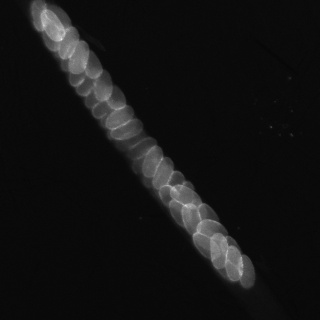embryo: (55, 26, 79, 60), (212, 254, 239, 283), (125, 136, 157, 160), (41, 9, 65, 41), (193, 233, 219, 261), (151, 157, 173, 190), (171, 185, 201, 209), (68, 40, 89, 74), (141, 146, 163, 178), (104, 106, 133, 130), (110, 119, 142, 140), (197, 220, 228, 241), (210, 233, 228, 269), (222, 236, 242, 267), (182, 203, 201, 235), (46, 4, 71, 28), (169, 200, 191, 227), (226, 246, 242, 282), (119, 130, 149, 149), (238, 254, 254, 289), (30, 0, 47, 31), (94, 71, 112, 100), (85, 51, 102, 78), (160, 185, 181, 206), (107, 86, 126, 109), (40, 31, 60, 52), (199, 204, 219, 224), (180, 181, 194, 206), (168, 171, 185, 191), (75, 78, 92, 96), (93, 102, 112, 118), (83, 94, 97, 109), (69, 73, 84, 87)
